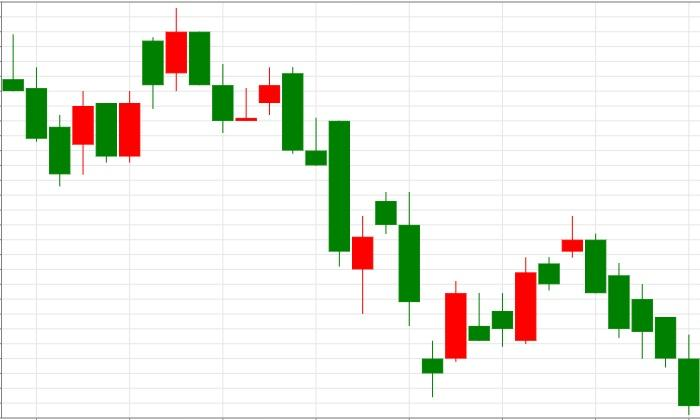morning_star_rise: (282, 66, 466, 398)
